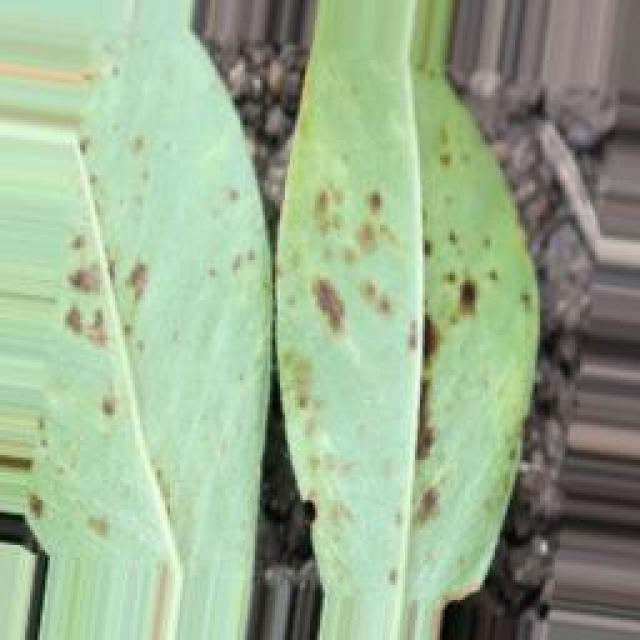Whitefly: (20, 78, 514, 570)
